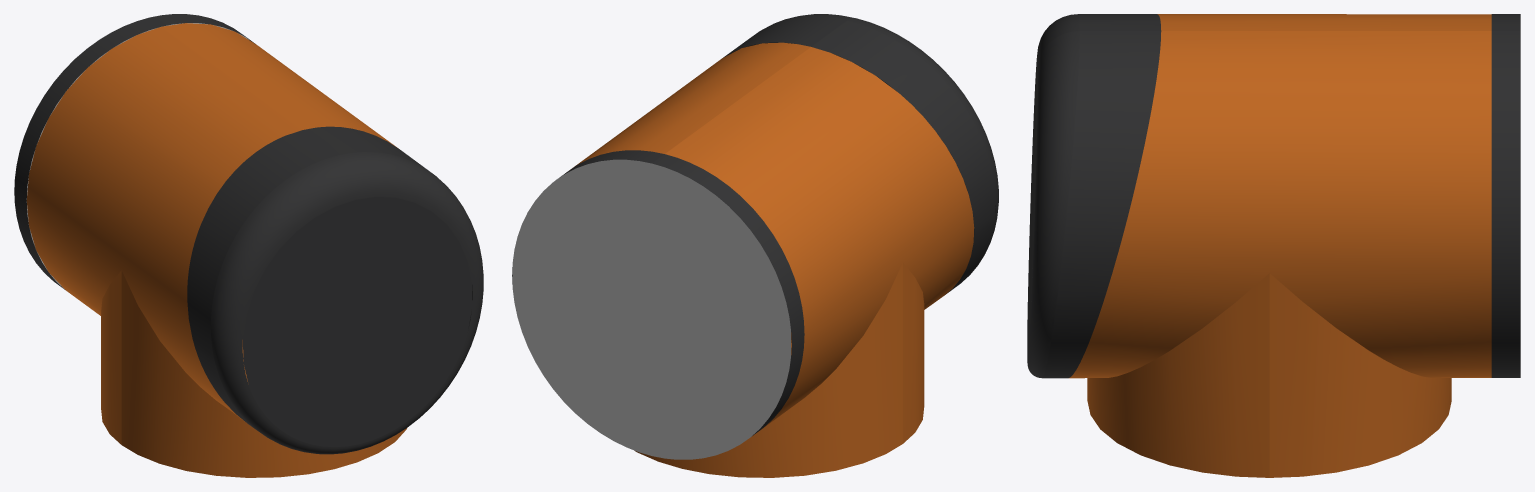
The picture shows the model from 3 angles, left to right: view 1: azimuth 30°, elevation 25°; view 2: azimuth 150°, elevation 25°; view 3: azimuth 270°, elevation 25°; orthographic projection. The views are drawn at different scales.
Parts seen in each view (by area): view 1: mesh; view 2: mesh; view 3: mesh.
Part boxes in pixels (x1=…): mesh: x1=14, y1=14, x2=483, y2=477; mesh: x1=512, y1=14, x2=998, y2=477; mesh: x1=1027, y1=14, x2=1520, y2=477.
Size of the model in its own units: 87 by 118 by 97.5.
